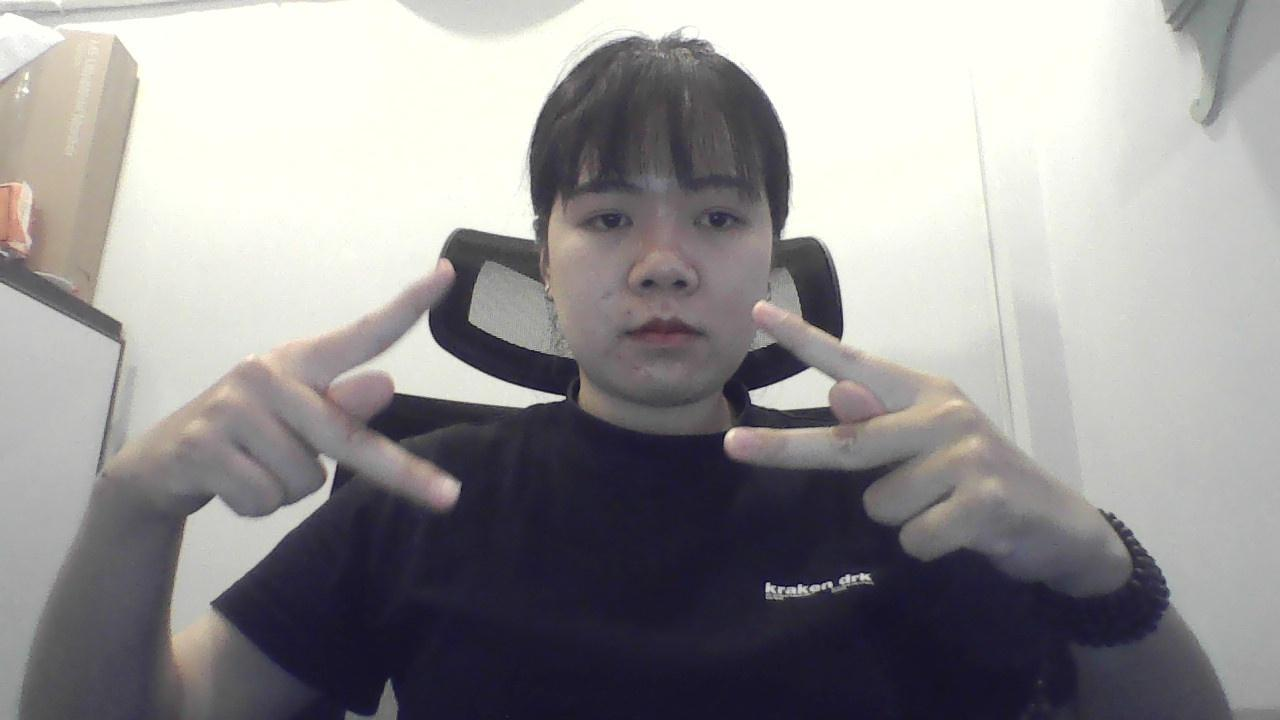P: (124, 260, 481, 540), (712, 305, 1083, 572)
